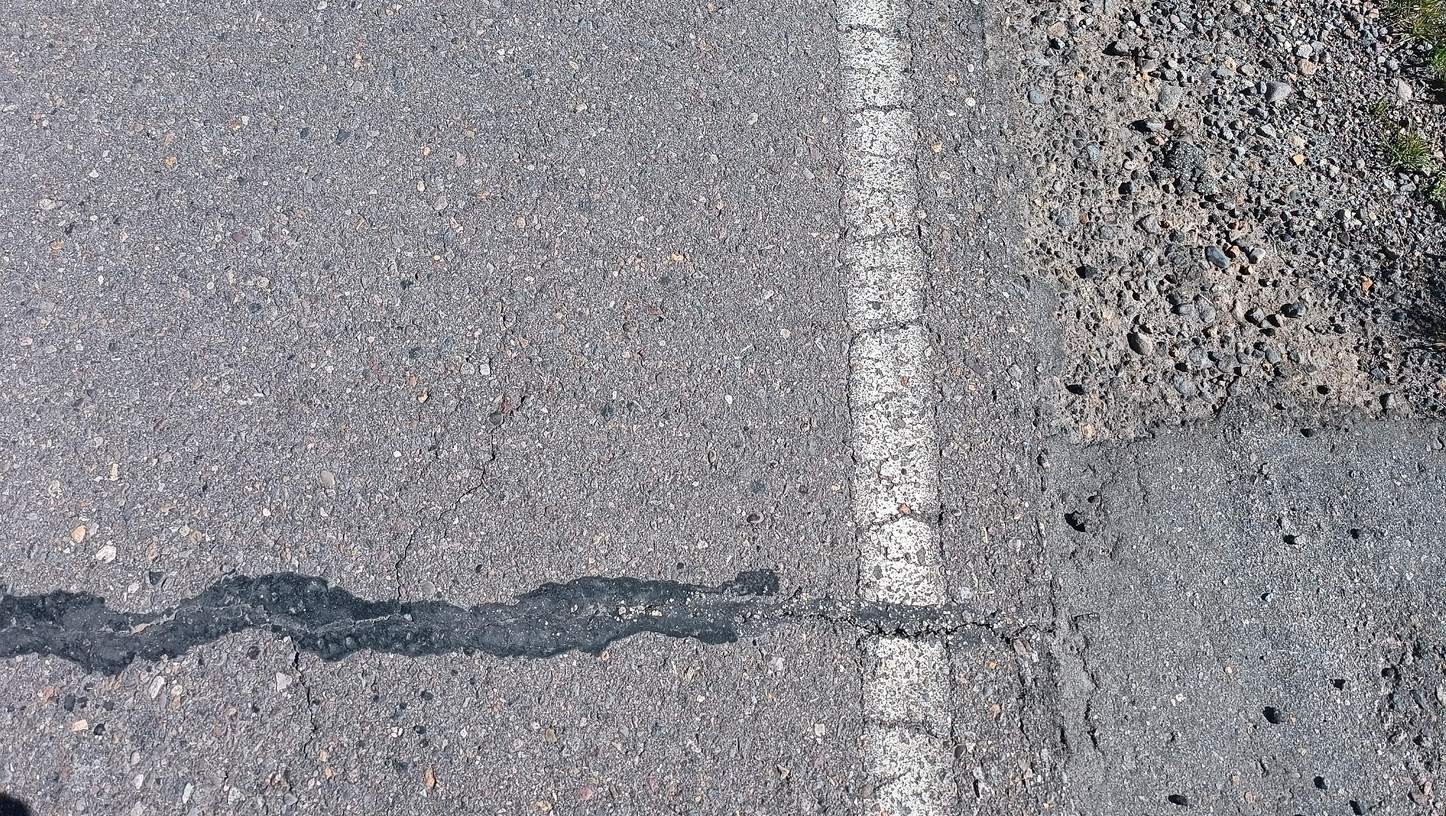GRIETA: (794, 613, 1012, 645), (393, 522, 423, 599), (1009, 645, 1031, 742), (453, 465, 486, 512), (1012, 623, 1052, 638)
PARCHE: (1051, 417, 1446, 816), (0, 570, 793, 673)
